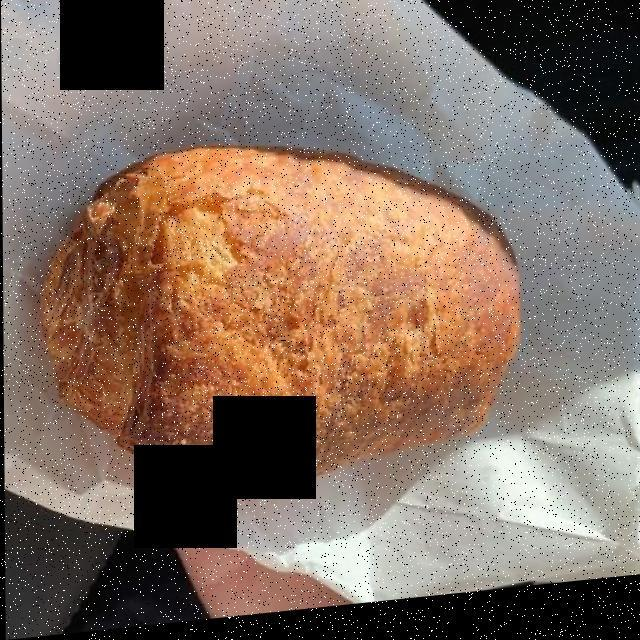bread: (53, 154, 516, 498)
